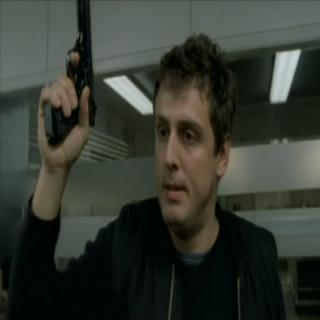gun: (35, 0, 99, 149)
